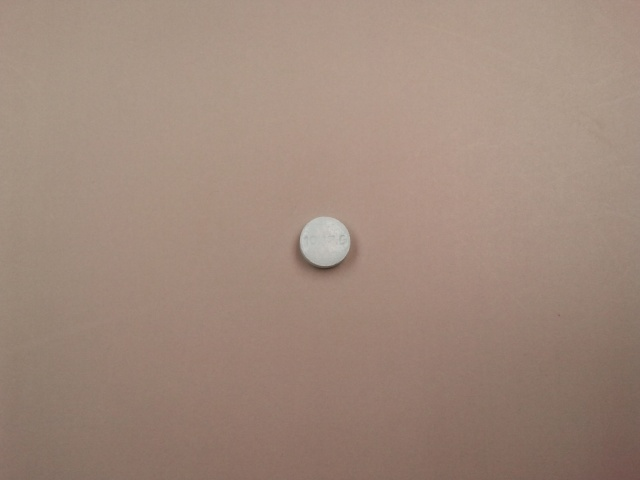0: (310, 235, 319, 247)
1: (303, 234, 310, 248)
G: (336, 233, 348, 247)
